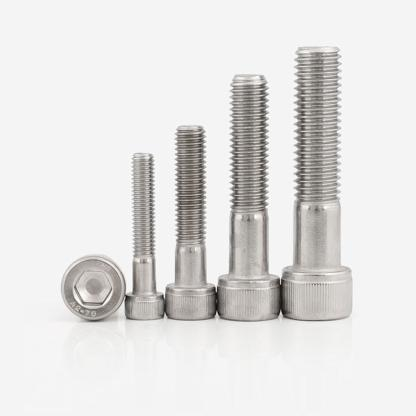FOD: (281, 44, 354, 322), (215, 71, 283, 322), (162, 124, 216, 322), (123, 152, 165, 321), (61, 256, 126, 322)
